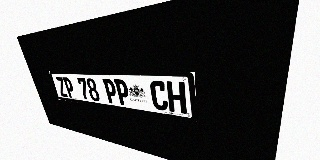7: (76, 78, 91, 100)
8: (85, 78, 101, 102)
C: (149, 80, 169, 111)
H: (166, 81, 187, 114)
P: (114, 79, 131, 106), (102, 79, 119, 104), (62, 77, 76, 98)
Z: (55, 77, 68, 97)
